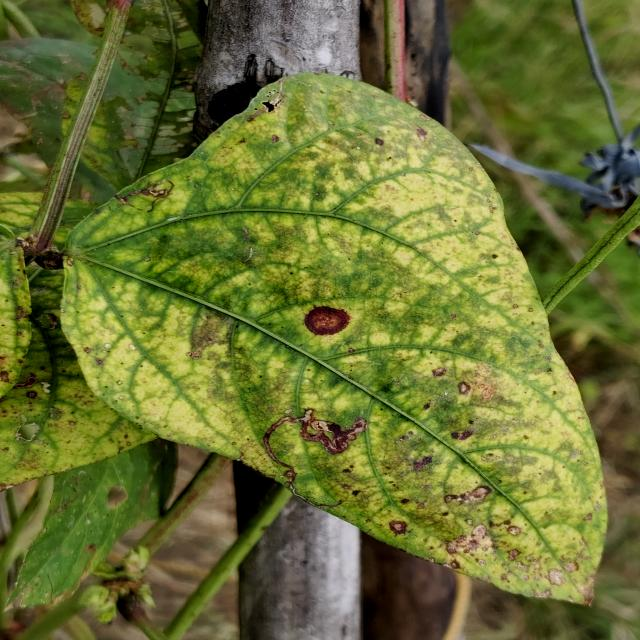leaf-moderate: (0, 73, 606, 606)
